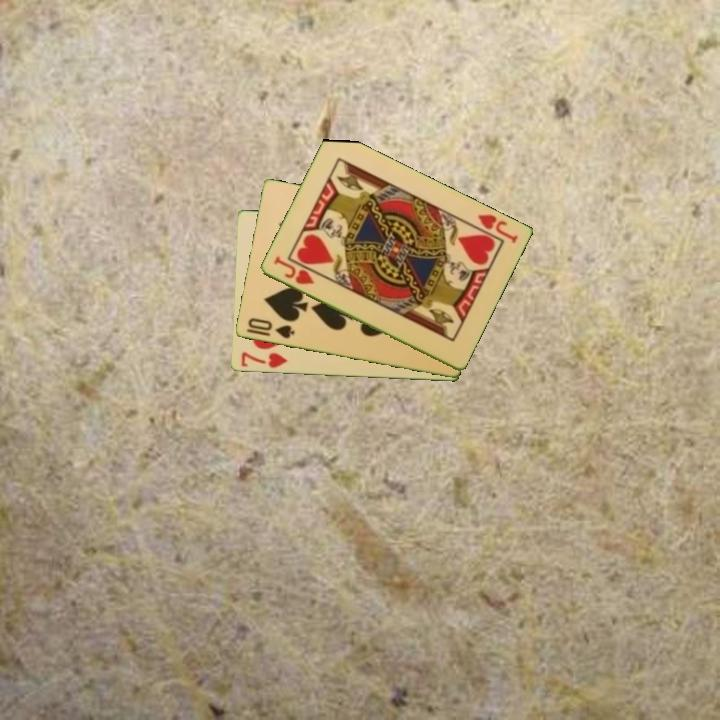10s: (244, 314, 297, 342)
7h: (237, 349, 290, 371)
Jh: (467, 211, 520, 246), (270, 253, 317, 288)
